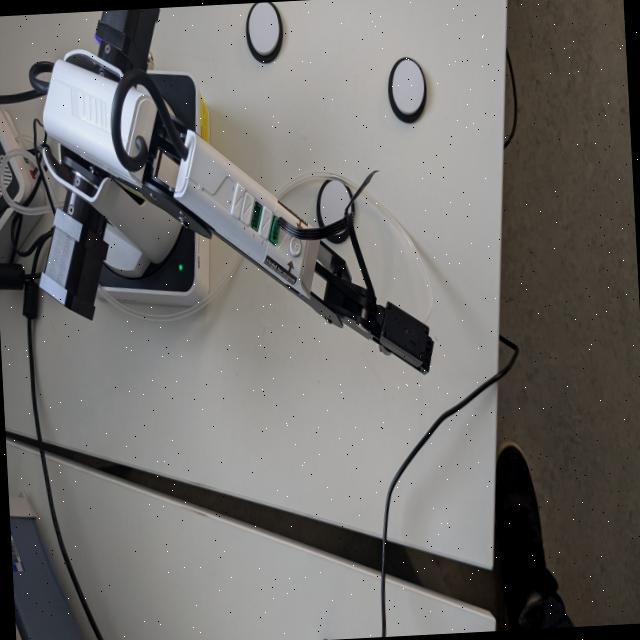Robot-end-effector-HF8z: (374, 282, 438, 394)
